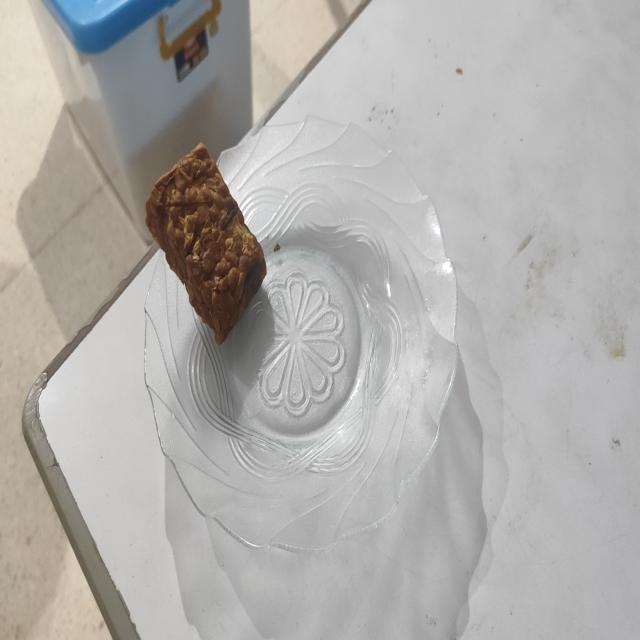tempe_goreng: (146, 143, 266, 343)
